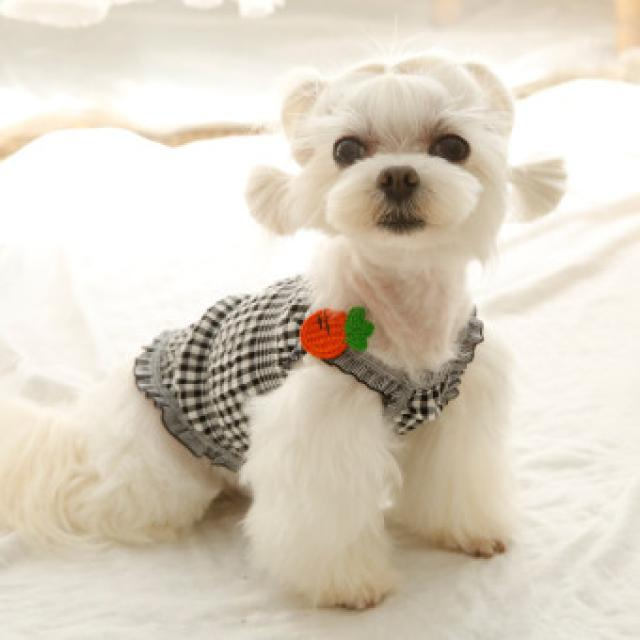cloth: (135, 276, 484, 471)
